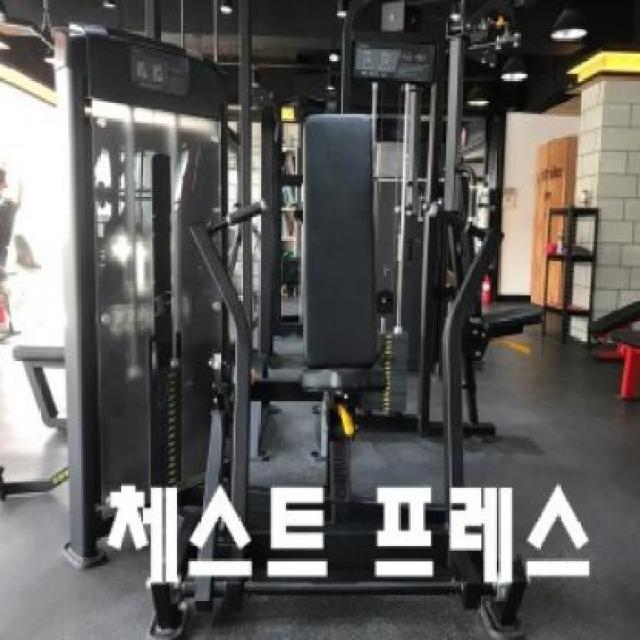Chest Press machine: (52, 11, 532, 640)
